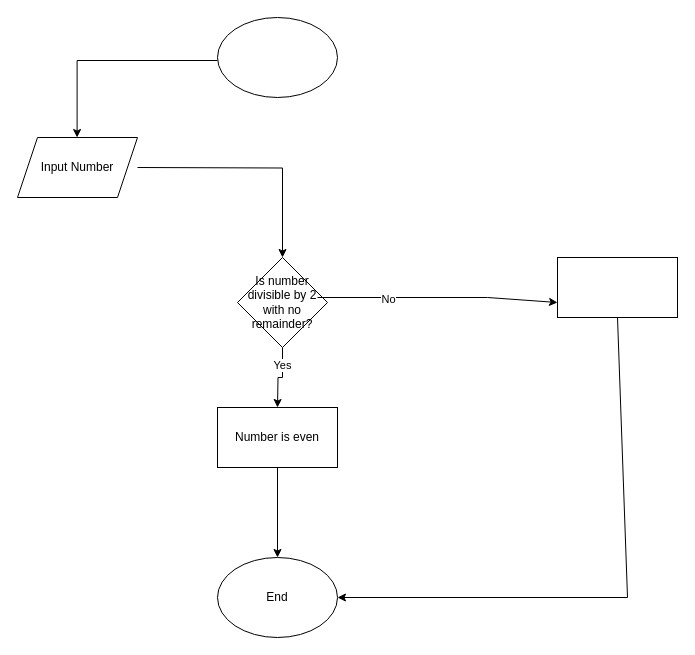
Some shapes in this 695 by 655 pixel diagram are drawn without their labels. Here are the shapes that lost their labels. From the top down, the centre of each, then its label:
At point (277, 57): "Start".
At point (617, 287): "Odd Number".
